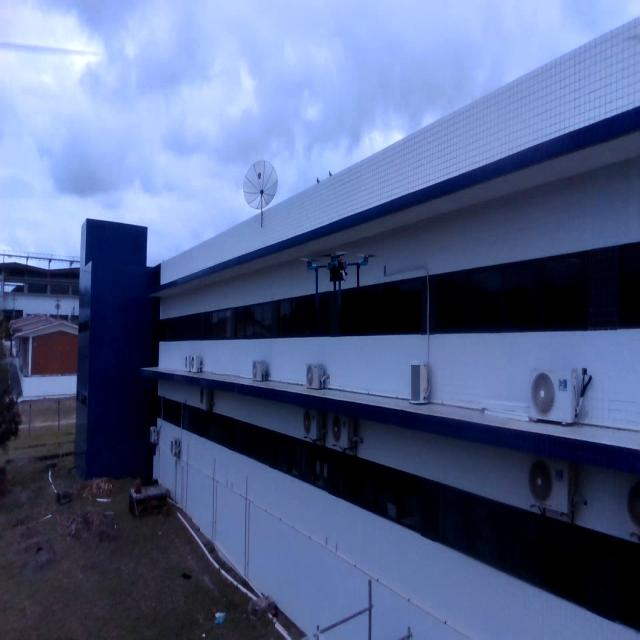-uav-: (292, 242, 380, 317)
